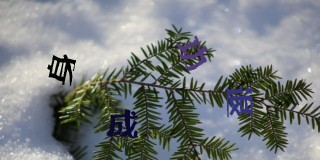功: (175, 36, 210, 71)
成: (106, 109, 141, 141)
身: (45, 53, 78, 87)
退: (224, 84, 254, 118)
